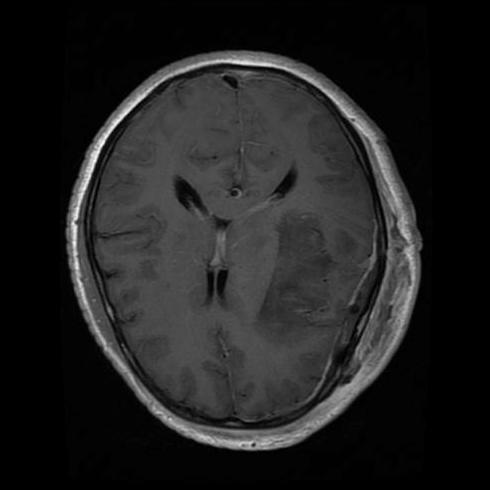Tumour-Glioma: (265, 204, 362, 340)
